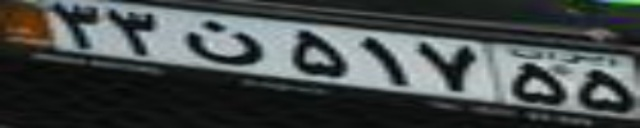1: (357, 36, 411, 86)
3: (103, 5, 160, 54), (50, 1, 99, 50)
5: (287, 28, 345, 78), (509, 60, 565, 106), (579, 66, 633, 113)
7: (415, 41, 483, 92)
non: (178, 20, 264, 65)
